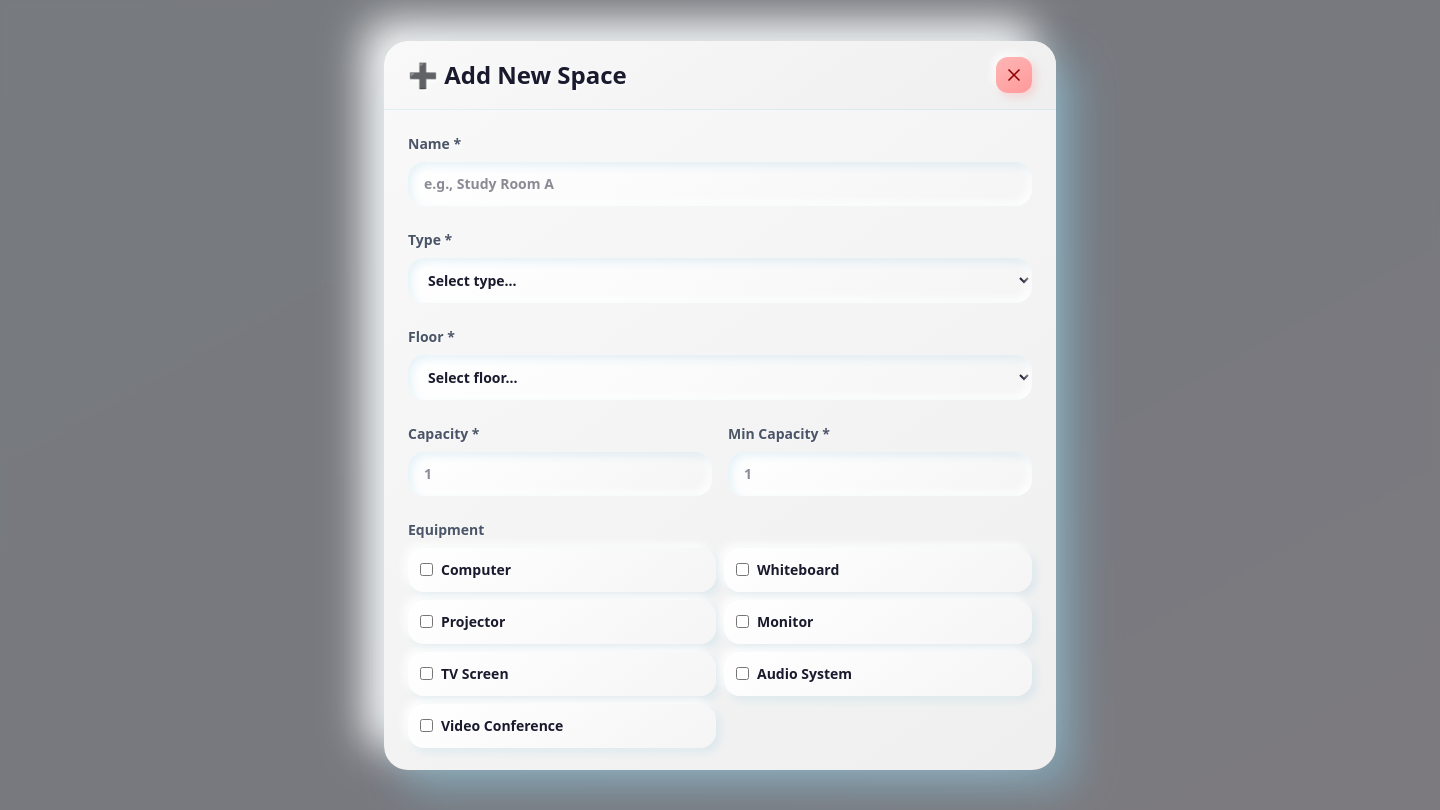
Test: SpaceFormDialog › validates name minimum length (AC#5)
Type "AB" into the field with placeholder "e.g., Study Room A" at (720, 184), box [408,162,1032,206]
(page scrolled)
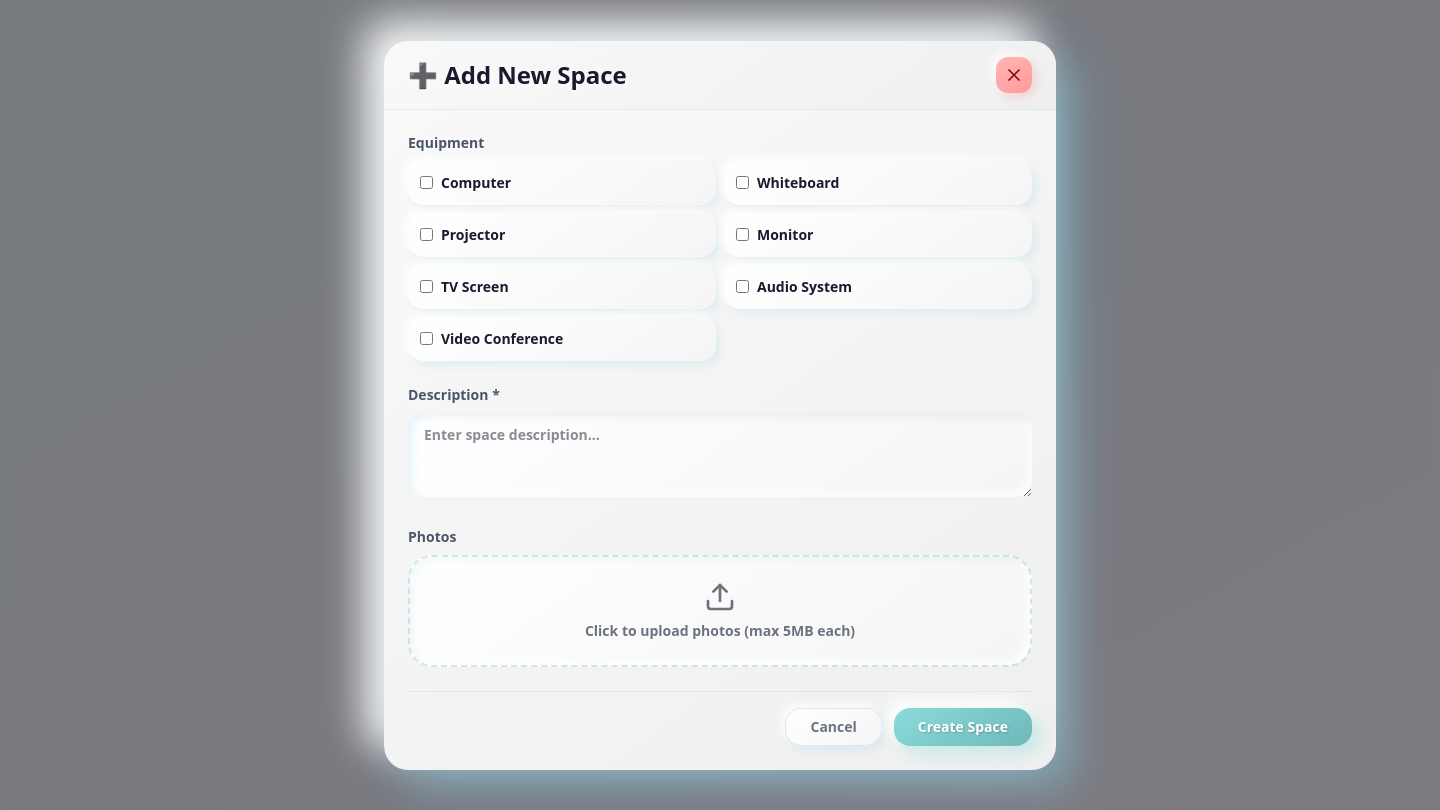
Click the button "Create Space" at (963, 726), box [894,708,1032,746]
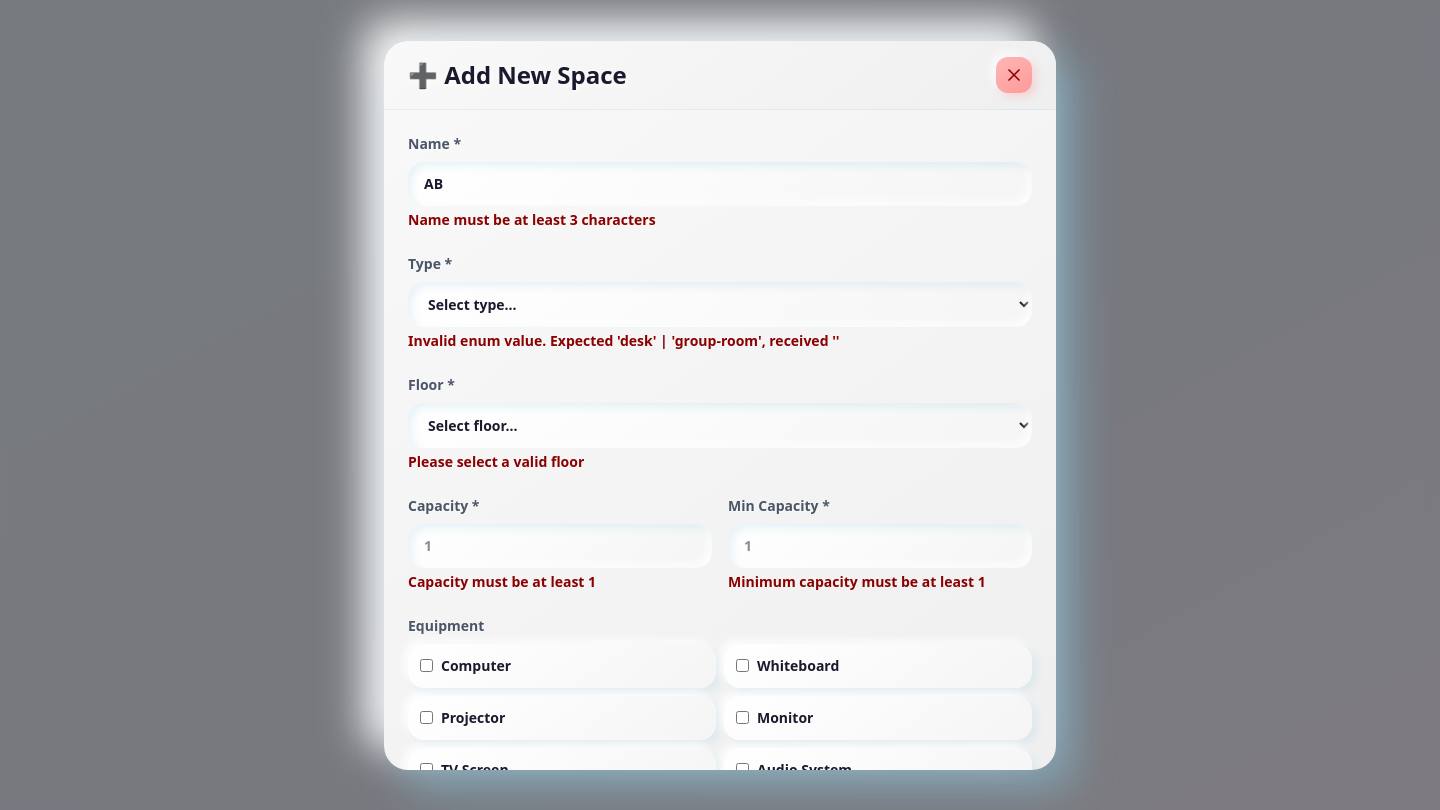
Now the text "Name must be at least 3 characters" is shown, box [408,210,656,228]
